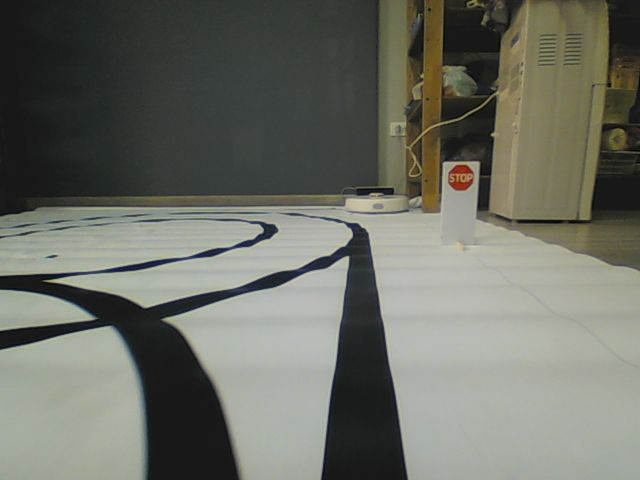Stop: (445, 163, 475, 191)
